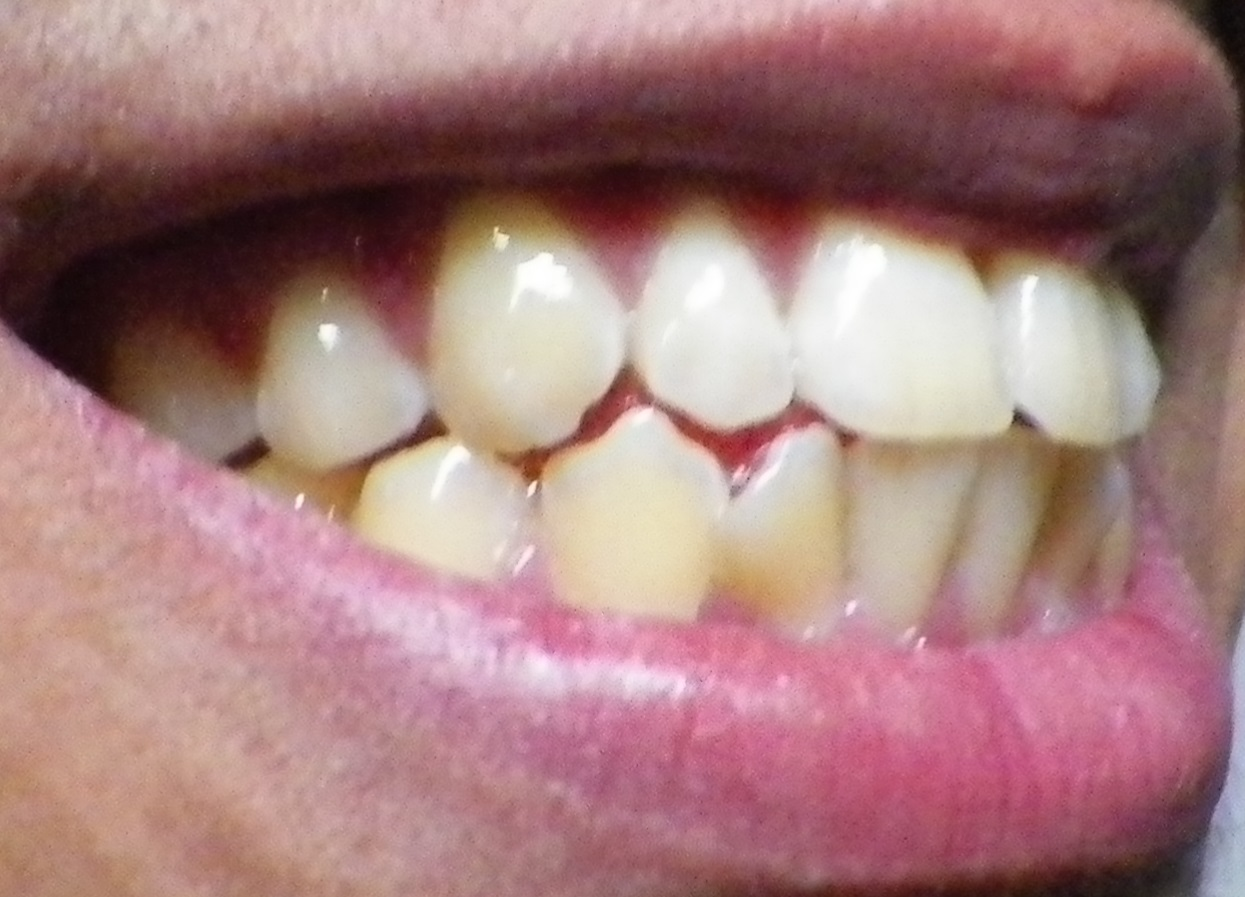boca: (102, 216, 1172, 629)
